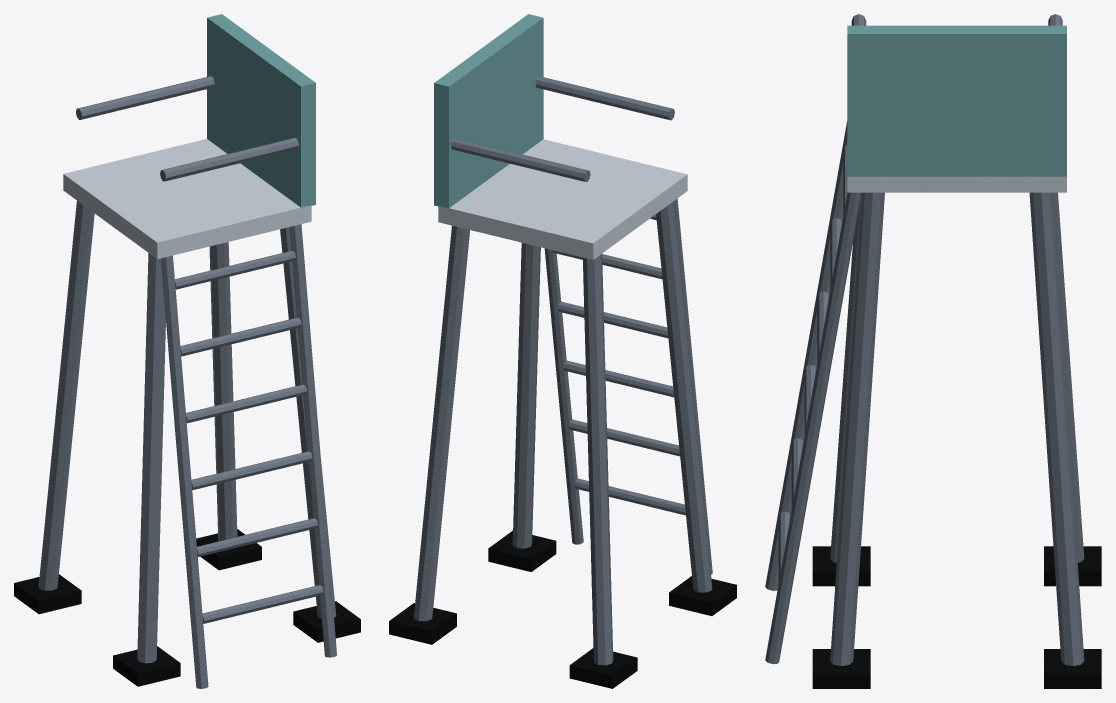
Rendered from tt_pool_lifeguard_chair.glb.
The picture shows the model from 3 angles, left to right: view 1: azimuth 30°, elevation 25°; view 2: azimuth 150°, elevation 25°; view 3: azimuth 270°, elevation 25°; orthographic projection. The views are drawn at different scales.
Parts seen in each view (by area): view 1: Chair_Legs, Chair_Seat, Chair_Back, Chair_Ladder, Chair_Rungs, Chair_Feet, Chair_Arm; view 2: Chair_Legs, Chair_Seat, Chair_Back, Chair_Feet, Chair_Rungs, Chair_Ladder, Chair_Arm; view 3: Chair_Back, Chair_Legs, Chair_Ladder, Chair_Feet, Chair_Seat, Chair_Rungs.
Part boxes in pixels (<box>): Chair_Legs: <box>38,201,336,663</box>; Chair_Seat: <box>63,139,311,259</box>; Chair_Back: <box>207,14,315,207</box>; Chair_Ladder: <box>161,224,336,688</box>; Chair_Rungs: <box>175,250,323,623</box>; Chair_Feet: <box>14,529,360,686</box>; Chair_Arm: <box>76,76,298,181</box>; Chair_Legs: <box>413,201,712,665</box>; Chair_Seat: <box>438,139,687,259</box>; Chair_Back: <box>434,14,543,208</box>; Chair_Feet: <box>389,530,736,688</box>; Chair_Rungs: <box>552,214,685,515</box>; Chair_Ladder: <box>544,198,712,574</box>; Chair_Arm: <box>451,76,674,181</box>; Chair_Back: <box>847,25,1066,176</box>; Chair_Legs: <box>830,192,1084,665</box>; Chair_Ladder: <box>765,121,861,664</box>; Chair_Feet: <box>812,546,1101,688</box>; Chair_Seat: <box>847,176,1066,192</box>; Chair_Rungs: <box>778,145,847,582</box>.
Size of what is drawn, in the model's own units: 1.04 by 2.43 by 1.16.
4 materials, 3 textured.
